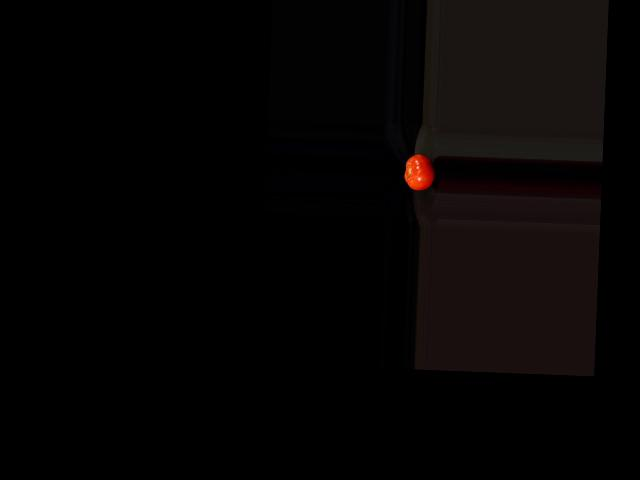tomato: (403, 153, 436, 191)
